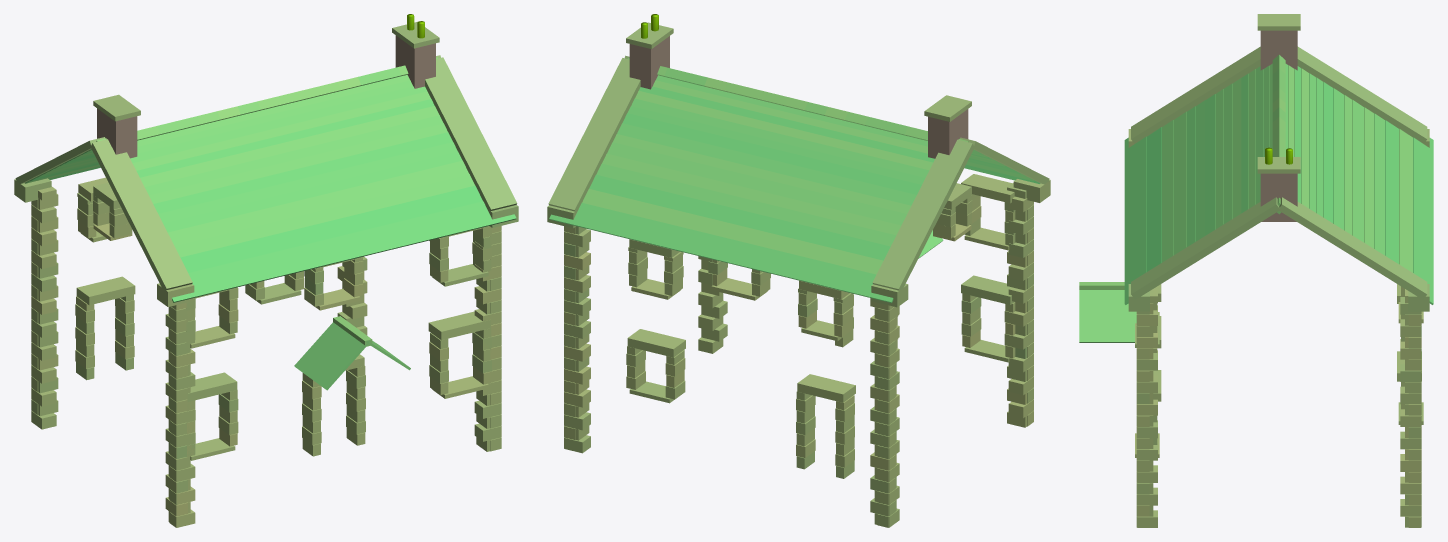
The model's file is SM_Bld_012_Stone.glb.
3 renders of one model, left to right at view 1: azimuth 30°, elevation 25°; view 2: azimuth 150°, elevation 25°; view 3: azimuth 270°, elevation 25°, orthographic. The views are drawn at different scales.
Visible parts, largest first — view 1: SM_Bld_012_Stone; view 2: SM_Bld_012_Stone; view 3: SM_Bld_012_Stone.
Part boxes in pixels (x1,y1,x2,y2): SM_Bld_012_Stone: [14, 14, 518, 527]; SM_Bld_012_Stone: [547, 14, 1050, 527]; SM_Bld_012_Stone: [1079, 14, 1433, 527].
Bounding box in the file's own units: 9.61 × 9.95 × 8.58.
